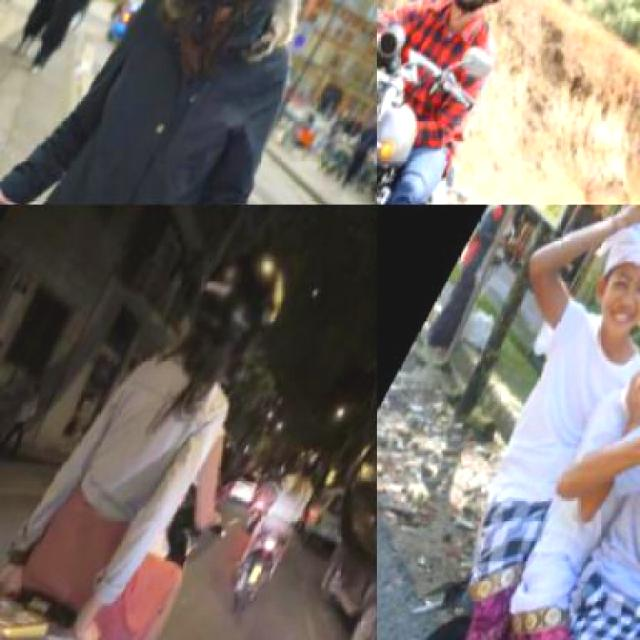With Helmet: (175, 233, 302, 390), (434, 0, 529, 31), (299, 437, 330, 474)
Without Helmet: (577, 205, 638, 326)
